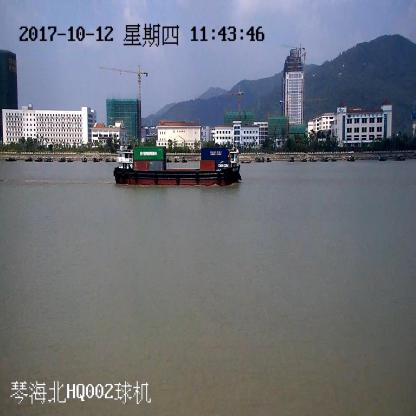Container Ship: (115, 144, 240, 187)
